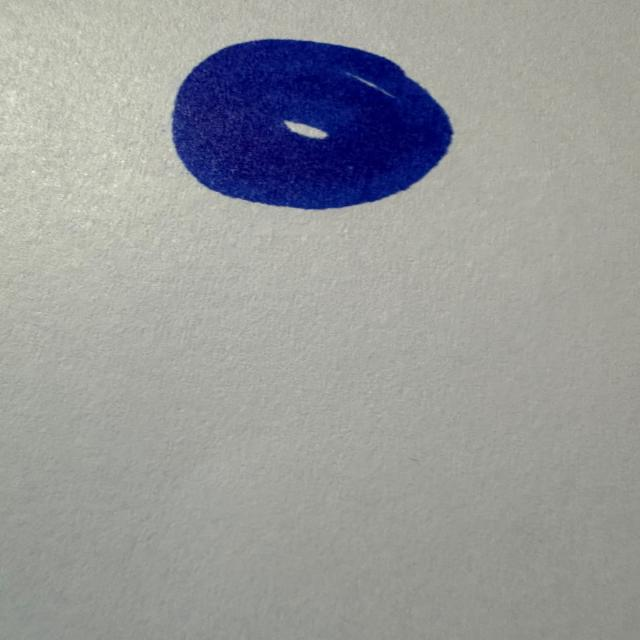Circle: (167, 34, 460, 213)
